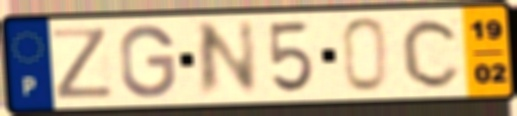0: (338, 14, 394, 96)
5: (265, 20, 317, 95)
C: (399, 15, 464, 91)
G: (117, 23, 179, 100)
N: (195, 18, 262, 101)
Z: (49, 26, 118, 102)
